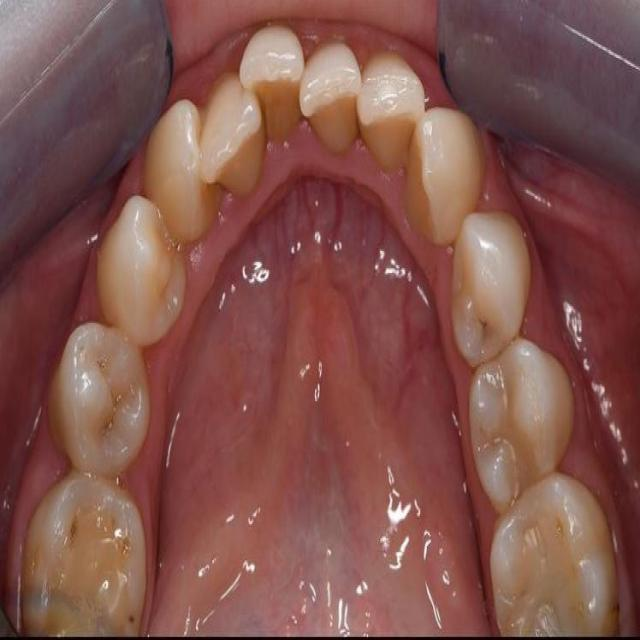1st Molar: (492, 472, 618, 635), (21, 477, 148, 638)
1st Premolar: (99, 191, 186, 347), (453, 215, 531, 369)
2nd Premolar: (468, 342, 572, 516), (49, 323, 151, 482)
Canine: (405, 110, 483, 246), (144, 97, 213, 242)
Central Incisor: (238, 25, 305, 143), (299, 42, 362, 157)
Lateral Incisor: (199, 77, 265, 199), (358, 55, 426, 171)
